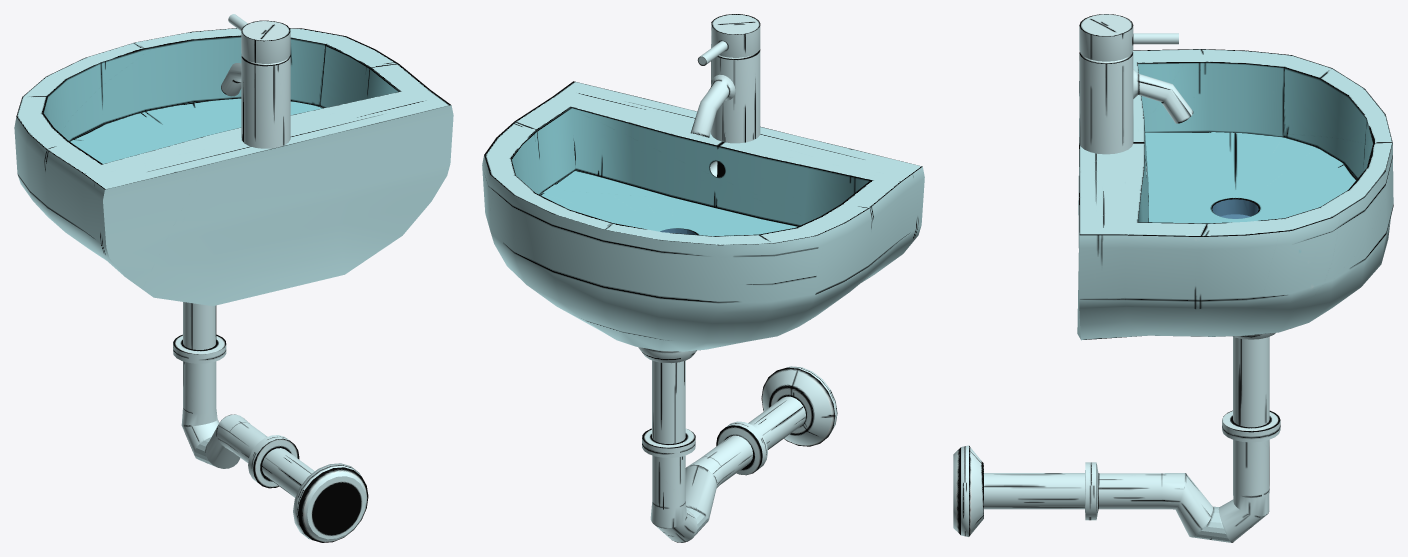
File: sink.fbx
3 views of the same model, side by side, from view 1: azimuth 30°, elevation 25°; view 2: azimuth 150°, elevation 25°; view 3: azimuth 270°, elevation 25° (orthographic). The views are drawn at different scales.
Visible parts, largest first — view 1: sink1; view 2: sink1; view 3: sink1.
Boxes of the visible parts, x1,y1,x2,y2 form: sink1: (14,14,453,542); sink1: (482,14,924,542); sink1: (953,14,1393,542).
Size of the model in its own units: 0.9119 by 1.15 by 0.8914.
